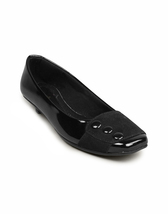shoes: (13, 53, 153, 158)
